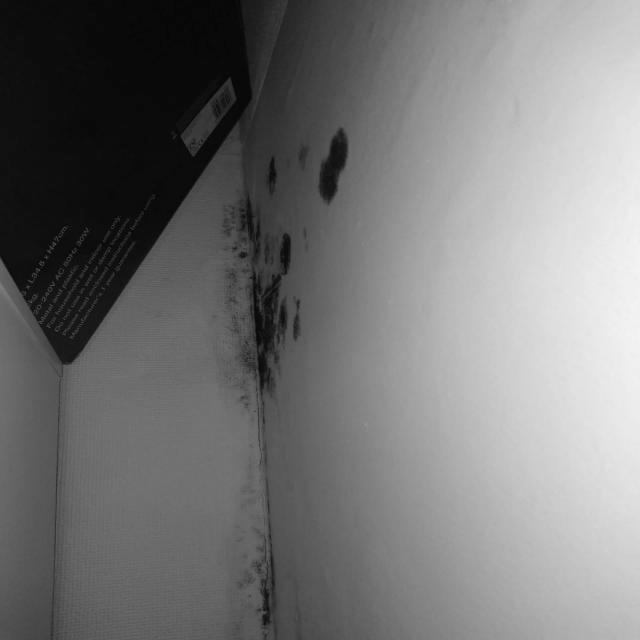stain marks: (221, 416, 341, 640), (217, 198, 317, 420), (310, 114, 365, 212), (252, 136, 314, 199)
